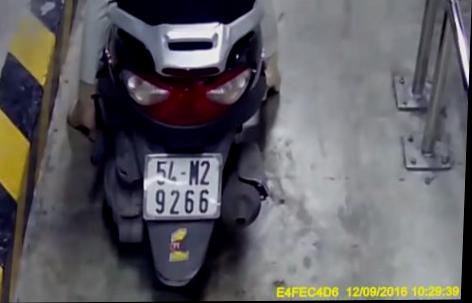License_Plate: (137, 147, 232, 225)
